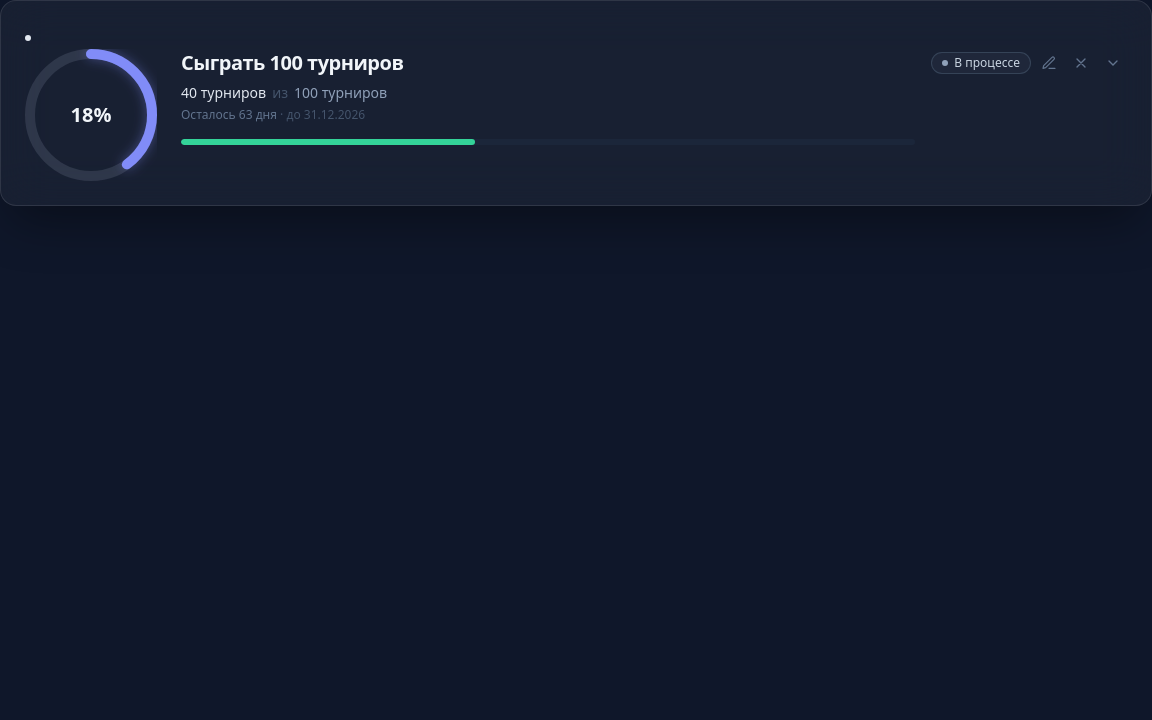
Test: GoalCard › cancels the outcome dialog without closing the goal
What coordinates should you click on to do the following:
click the button named "Закрыть цель"
I would click on:
 (1081, 63)
Its box is [1067, 49, 1095, 77].
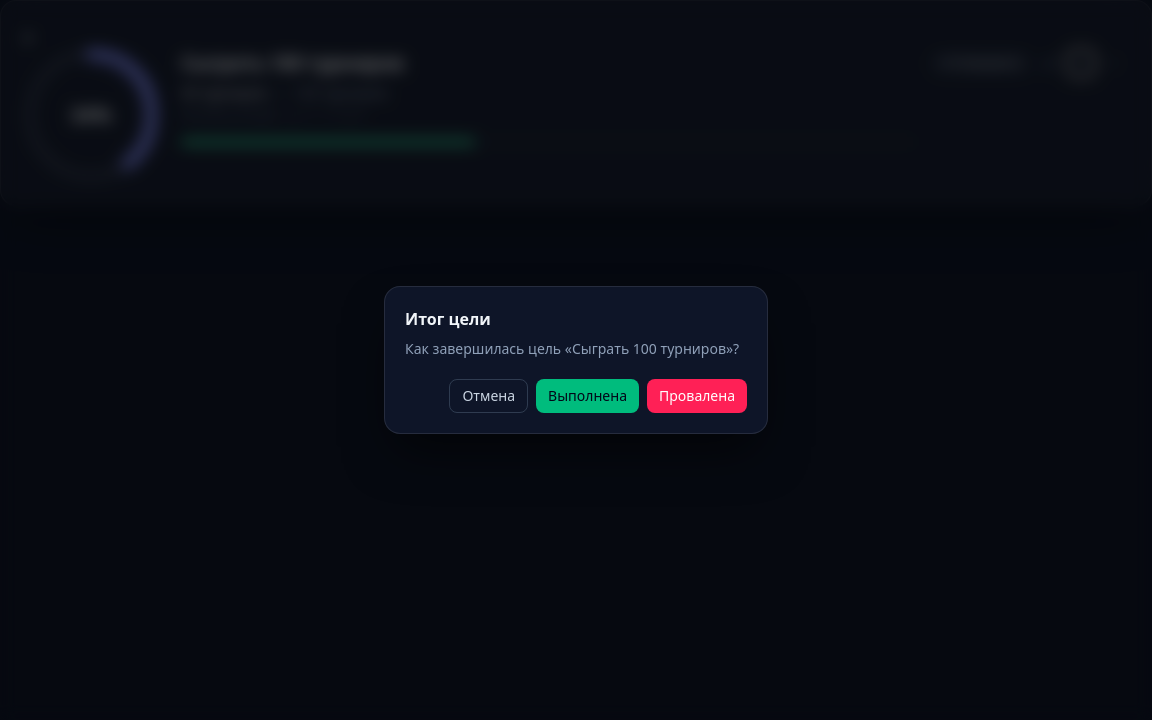
What coordinates should you click on to do the following:
click the button "Отмена"
I would click on:
 (489, 396)
Its box is [449, 379, 528, 413].
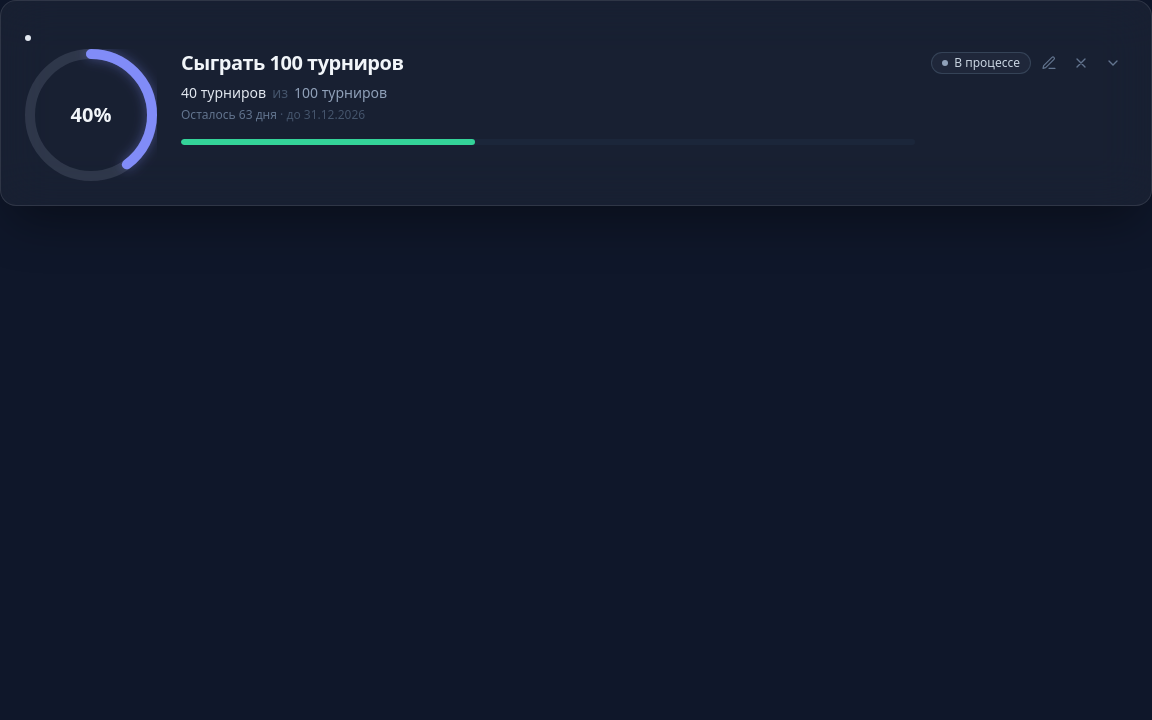
Now the dialog is gone
